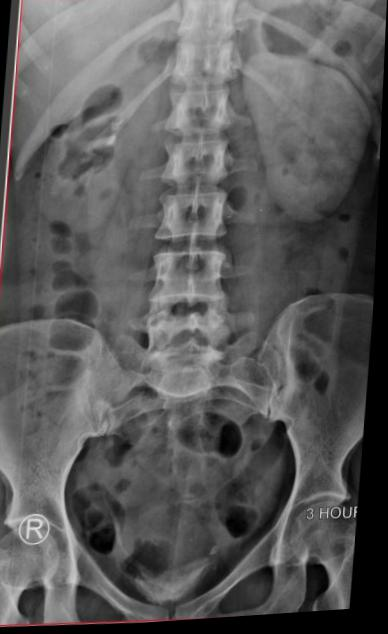left kidney: (227, 36, 381, 239)
right kidney: (25, 56, 158, 244)
vertebrae: (157, 83, 232, 142)
